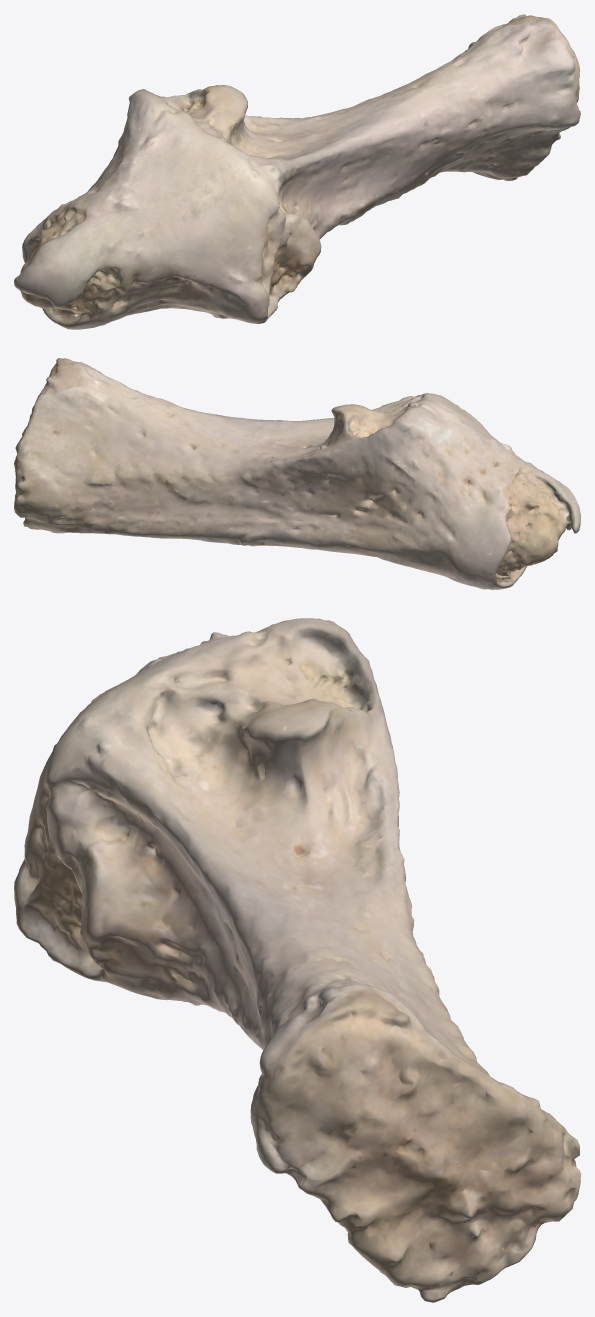
3 views of the same model, one above another, from view 1: azimuth 30°, elevation 25°; view 2: azimuth 150°, elevation 25°; view 3: azimuth 270°, elevation 25° (orthographic). The views are drawn at different scales.
Parts seen in each view (by area): view 1: Manubrium Sterni_Hund.001; view 2: Manubrium Sterni_Hund.001; view 3: Manubrium Sterni_Hund.001.
Part boxes in pixels (x1,y1,x2,y2): Manubrium Sterni_Hund.001: (14,14,580,329); Manubrium Sterni_Hund.001: (14,358,580,589); Manubrium Sterni_Hund.001: (14,618,580,1302).
Bounding box in the file's own units: 4316 × 1479 × 2147.
1 material, 1 textured.
